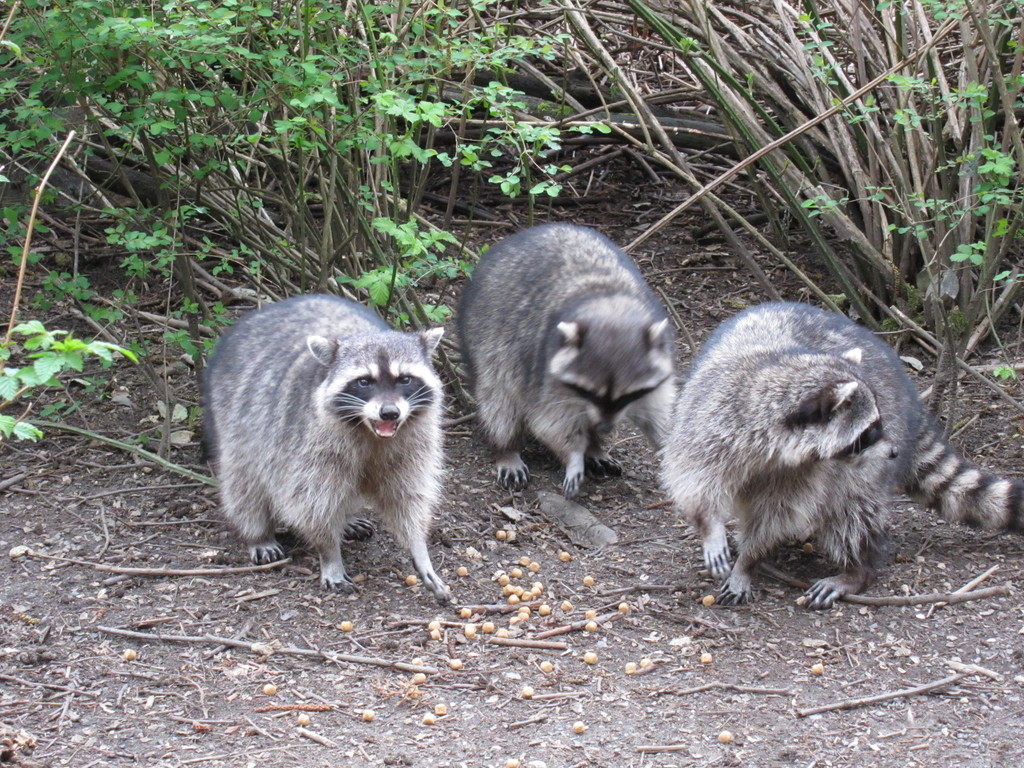raccoon: (666, 298, 1016, 609), (195, 294, 463, 603), (459, 222, 682, 494)
